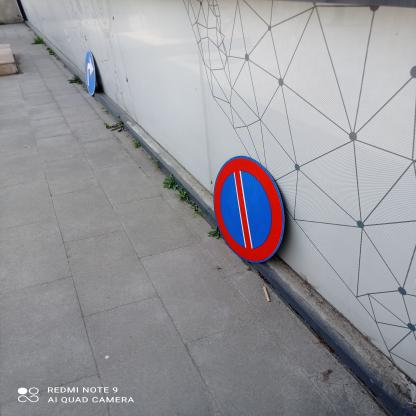No Waiting: (214, 158, 288, 264)
